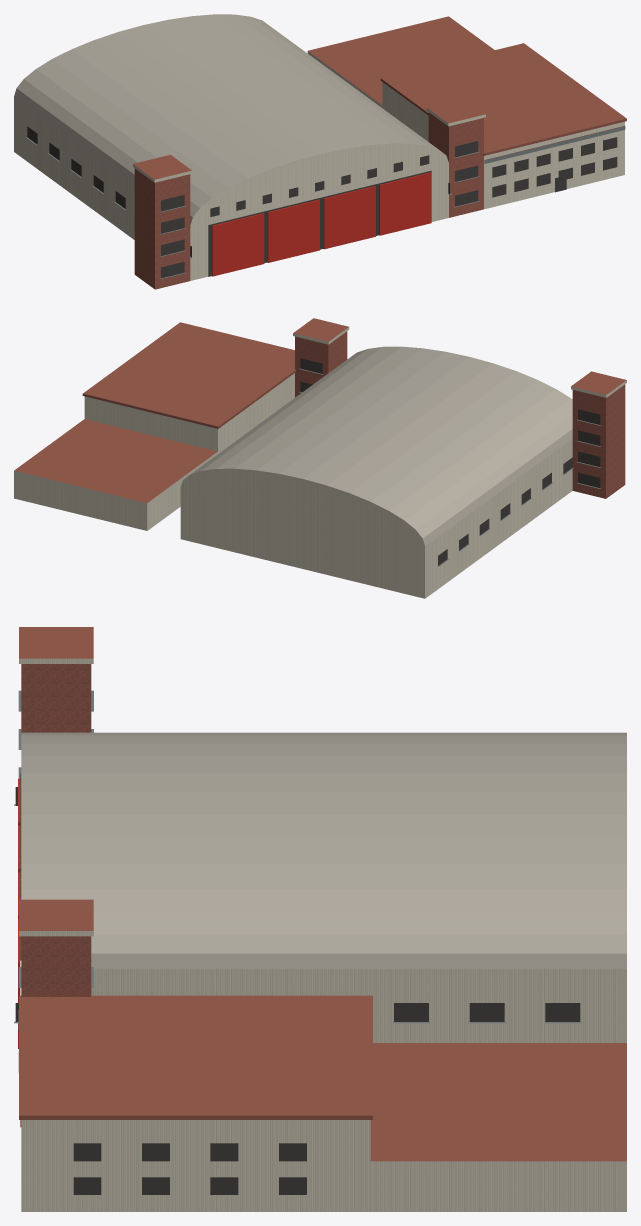
Rendered from cyxd_hangar_second_lod2.gltf.
The picture shows the model from 3 angles, top to bottom: view 1: azimuth 30°, elevation 25°; view 2: azimuth 150°, elevation 25°; view 3: azimuth 270°, elevation 25°; orthographic projection. The views are drawn at different scales.
Parts seen in each view (by area): view 1: cyxd_hangar_second; view 2: cyxd_hangar_second; view 3: cyxd_hangar_second.
Part boxes in pixels (x1,y1,x2,y2): cyxd_hangar_second: (14,14,626,289); cyxd_hangar_second: (14,318,626,598); cyxd_hangar_second: (14,627,626,1211).
Size of the model in its own units: 80.4 by 18 by 52.63.
